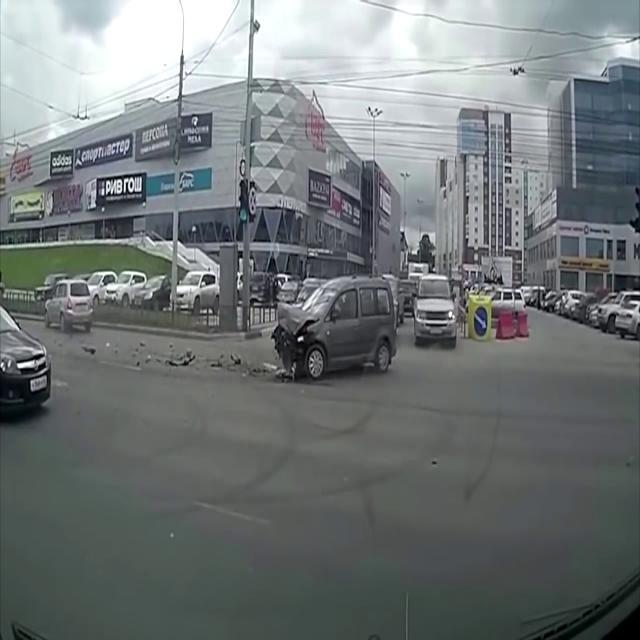accident: (221, 274, 395, 381)
non-accident: (33, 268, 221, 336), (413, 275, 529, 347), (524, 282, 640, 342)
